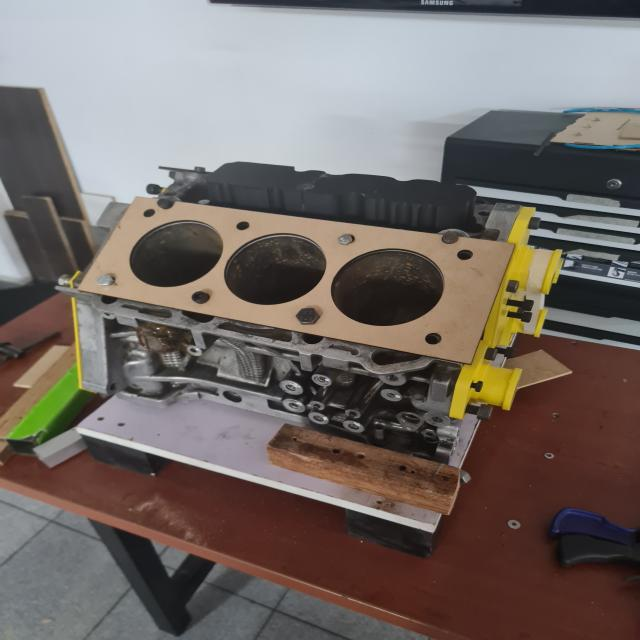vista1: (77, 196, 514, 365)
